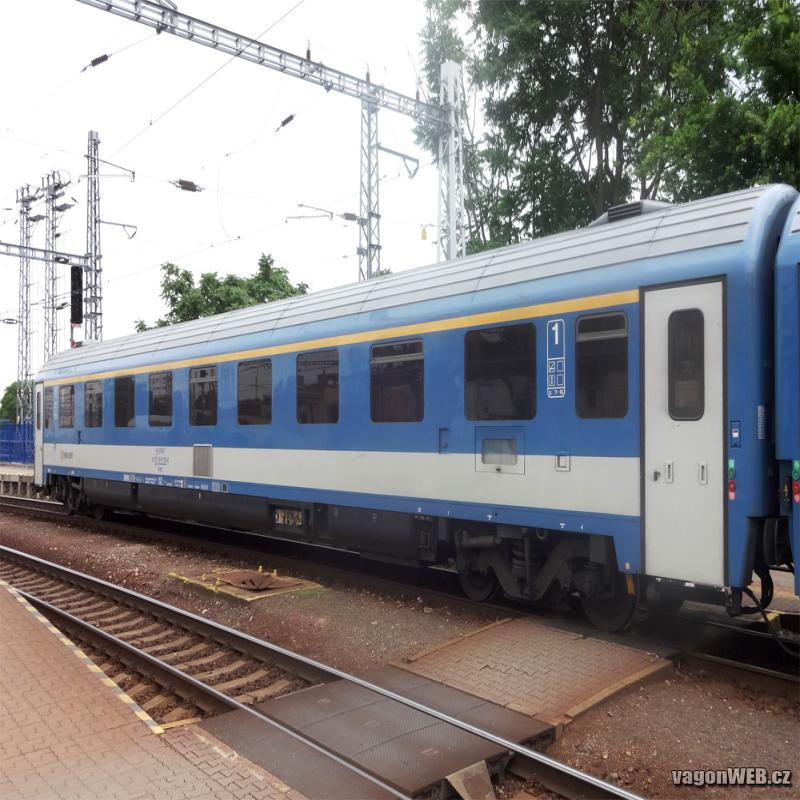train: (35, 187, 792, 658)
